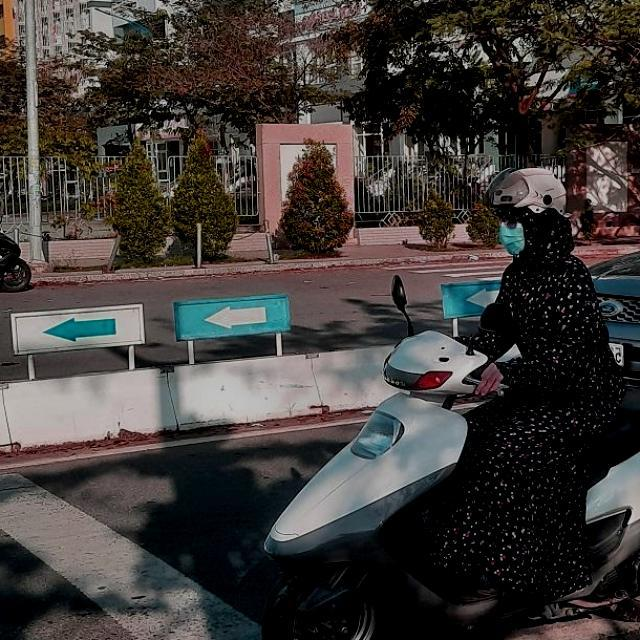Helmet: (489, 163, 571, 261)
